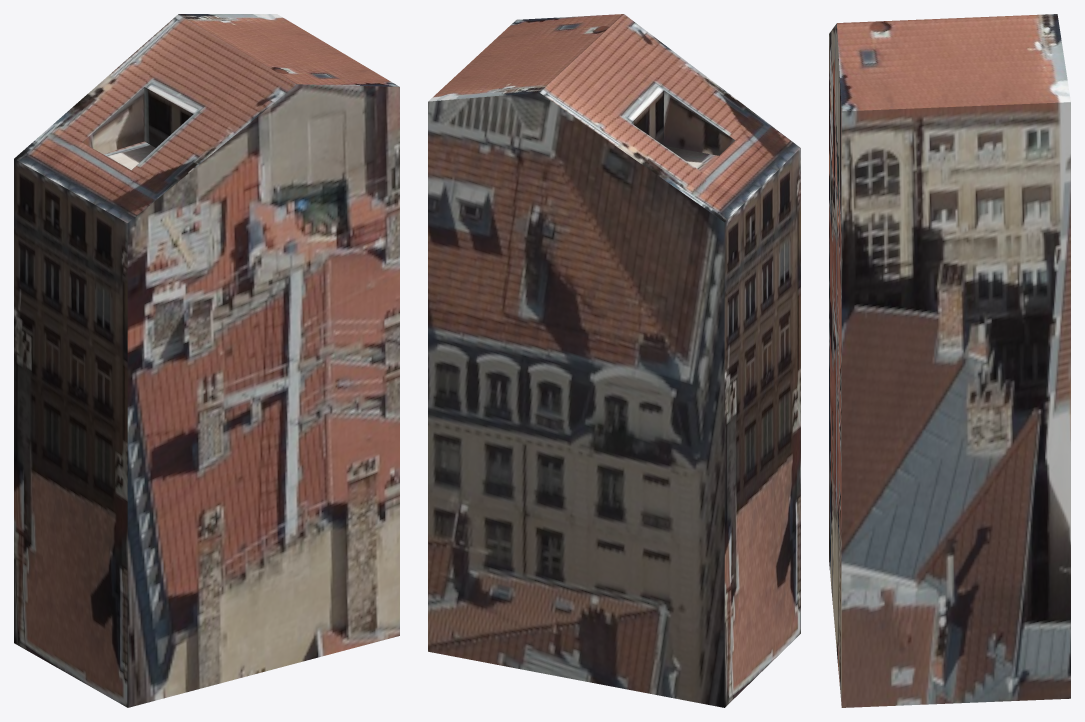
3 renders of one model, left to right at view 1: azimuth 30°, elevation 25°; view 2: azimuth 150°, elevation 25°; view 3: azimuth 270°, elevation 25°, orthographic. The views are drawn at different scales.
Parts seen in each view (by area): view 1: Z_UP; view 2: Z_UP; view 3: Z_UP.
Part boxes in pixels (x1,y1,x2,y2): Z_UP: [14, 14, 399, 707]; Z_UP: [428, 14, 800, 707]; Z_UP: [829, 14, 1070, 707].
Size of the model in its own units: 14.62 by 27.24 by 9.49.
Materials: 2 (1 with a texture image).
